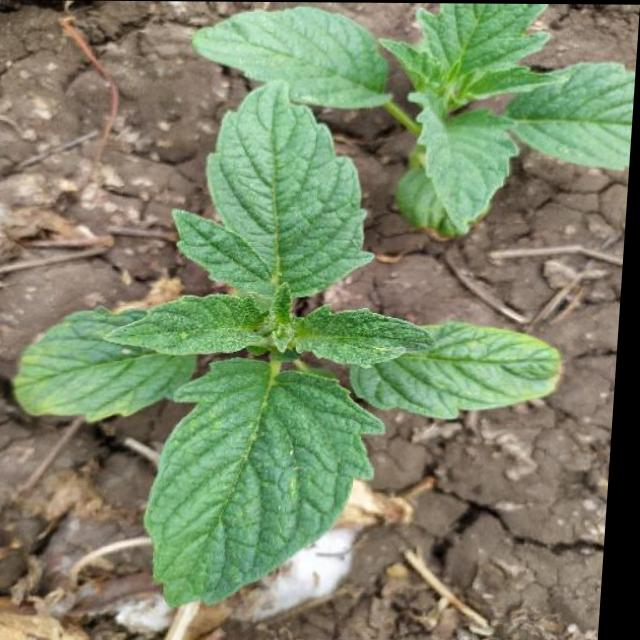crop: (5, 80, 573, 603), (173, 2, 640, 224)
